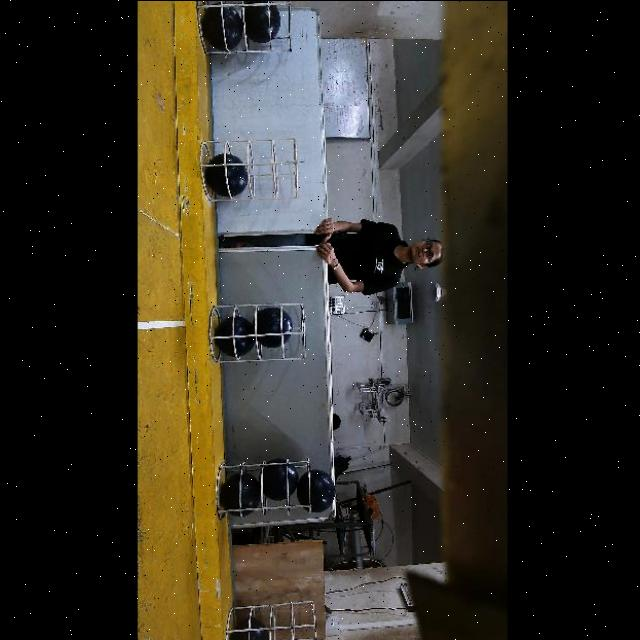P: (203, 2, 244, 50), (205, 154, 247, 197), (219, 474, 259, 519), (257, 459, 297, 502), (241, 0, 280, 43), (252, 307, 292, 348), (214, 317, 253, 357), (296, 470, 334, 511), (228, 621, 265, 640)
S: (203, 134, 307, 208), (203, 297, 319, 361), (218, 458, 320, 530), (197, 1, 305, 52), (230, 592, 316, 640)
